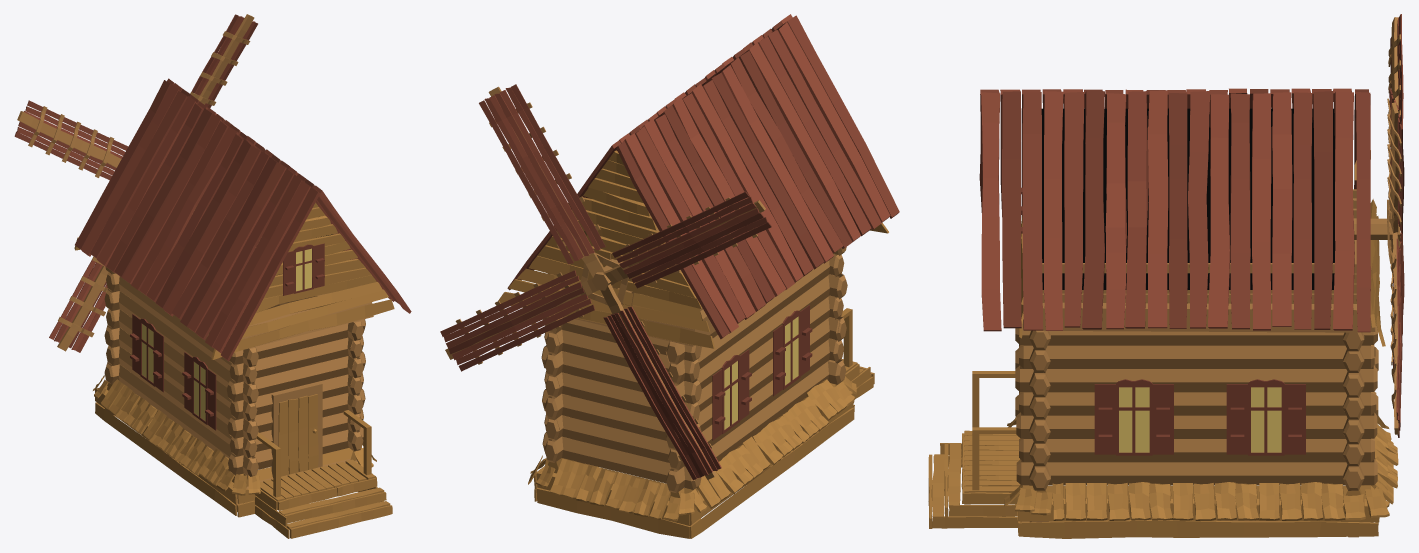
The model's file is Windmühle_klein.fbx.
3 views of the same model, side by side, from view 1: azimuth 30°, elevation 25°; view 2: azimuth 150°, elevation 25°; view 3: azimuth 270°, elevation 25° (orthographic). The views are drawn at different scales.
Visible parts, largest first — view 1: Windmühle, Windrad; view 2: Windmühle, Windrad; view 3: Windmühle, Windrad.
Boxes of the visible parts, x1,y1,x2,y2 form: Windmühle: [74, 78, 411, 538]; Windrad: [14, 14, 257, 352]; Windmühle: [498, 14, 899, 538]; Windrad: [440, 84, 771, 480]; Windmühle: [928, 88, 1398, 538]; Windrad: [1353, 14, 1404, 437].
Size of the model in its own units: 12.39 by 15.14 by 14.27.
